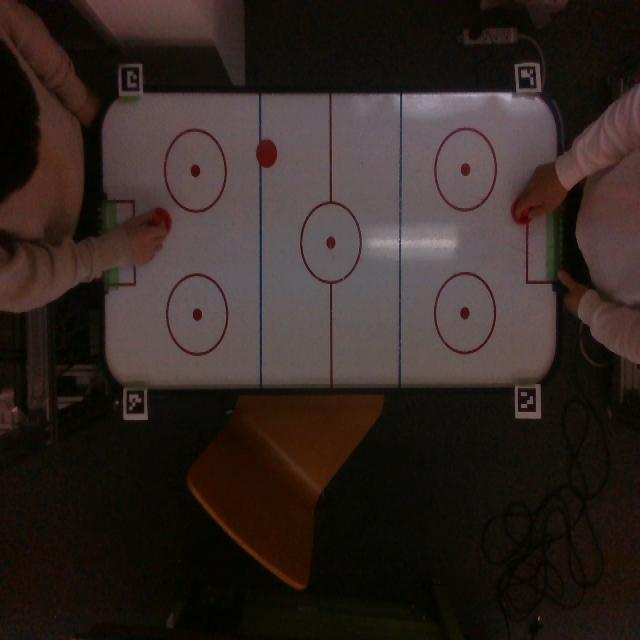puck: (256, 138, 278, 168)
